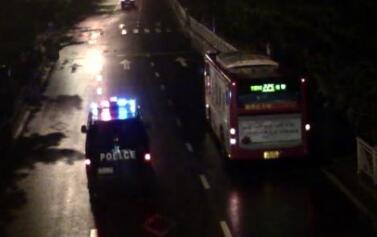bus: (202, 46, 312, 164)
car: (80, 98, 156, 191), (119, 2, 144, 10)
